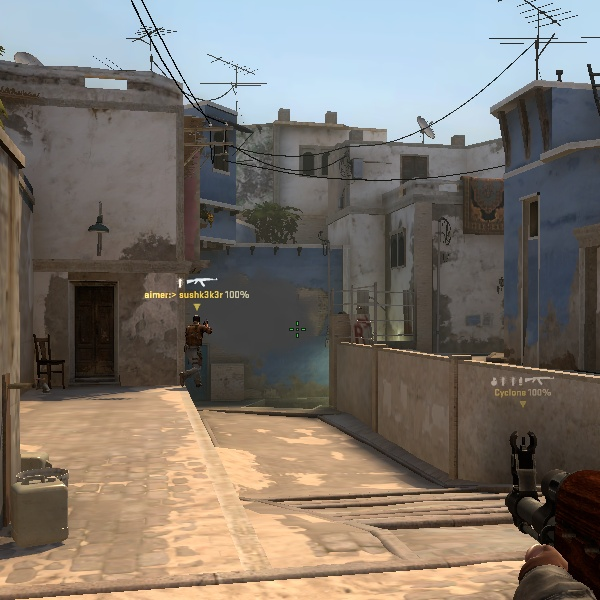t_body: (177, 311, 218, 387)
